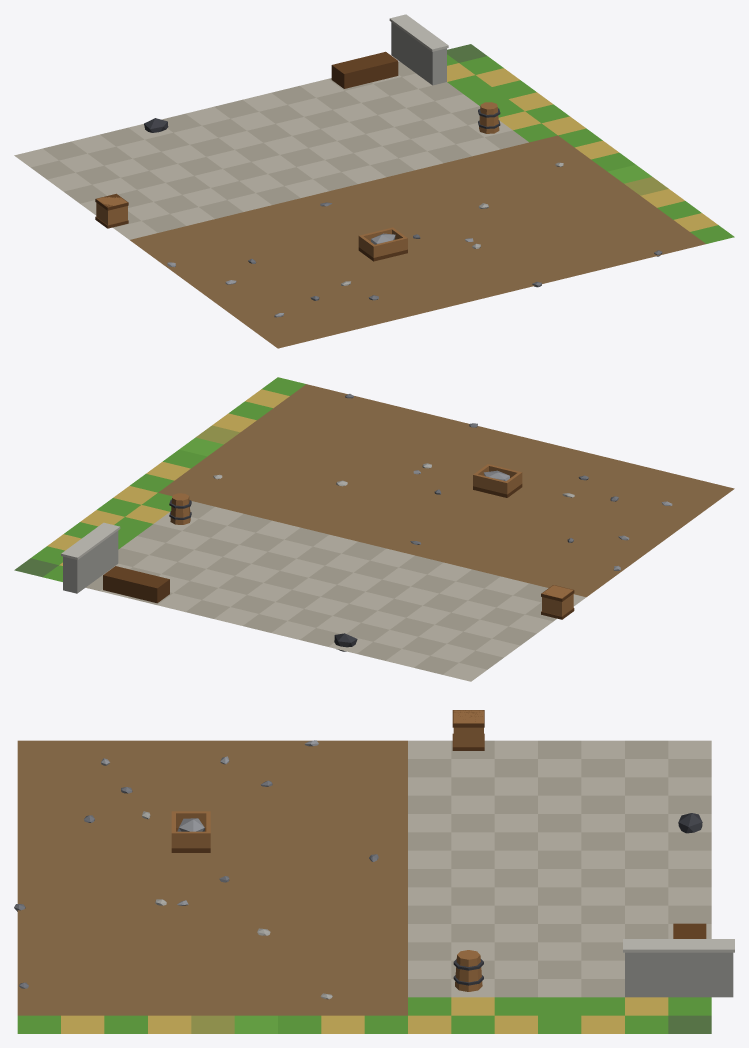
Rendered from chunk_7_10.glb.
The picture shows the model from 3 angles, top to bottom: view 1: azimuth 30°, elevation 25°; view 2: azimuth 150°, elevation 25°; view 3: azimuth 270°, elevation 25°; orthographic projection. The views are drawn at different scales.
Parts seen in each view (by area): view 1: chunk_7_10; view 2: chunk_7_10; view 3: chunk_7_10.
Part boxes in pixels (box(x1,y1,x2,y2)): chunk_7_10: box(14, 14, 734, 348); chunk_7_10: box(14, 377, 734, 681); chunk_7_10: box(14, 710, 734, 1033).
Bounding box in the file's own units: 16.17 × 1.54 × 16.63.
